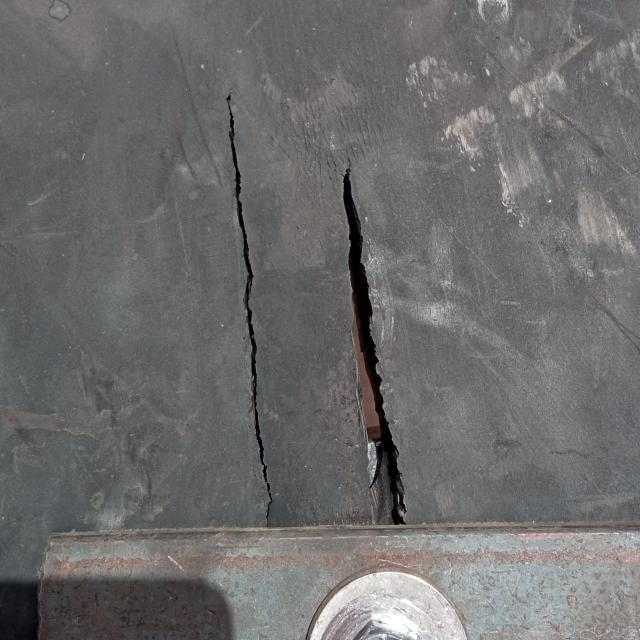Tear: (327, 147, 416, 534), (220, 82, 286, 534)
